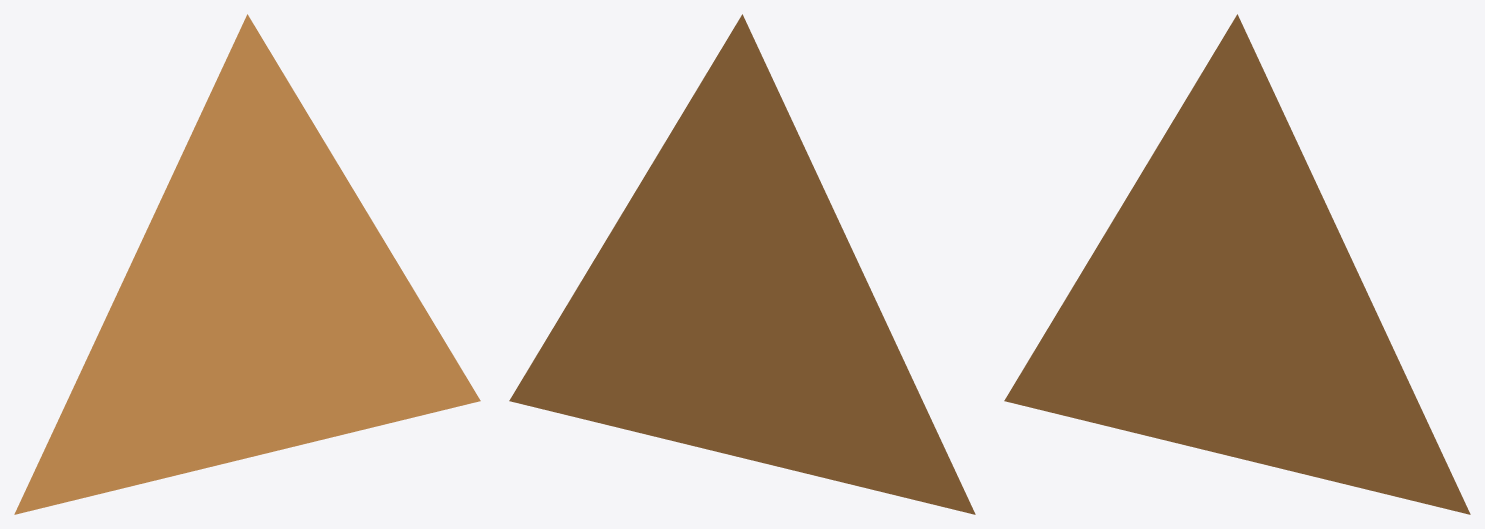
The model's file is performance.glb.
The picture shows the model from 3 angles, left to right: view 1: azimuth 30°, elevation 25°; view 2: azimuth 150°, elevation 25°; view 3: azimuth 330°, elevation 25°; orthographic projection.
Parts seen in each view (by area): view 1: GLB演出; view 2: GLB演出; view 3: GLB演出.
Part boxes in pixels (<box>): GLB演出: <box>14,14,480,514</box>; GLB演出: <box>509,14,975,514</box>; GLB演出: <box>1004,14,1470,514</box>.
Size of the model in its own units: 1.1 by 1 by 0.
